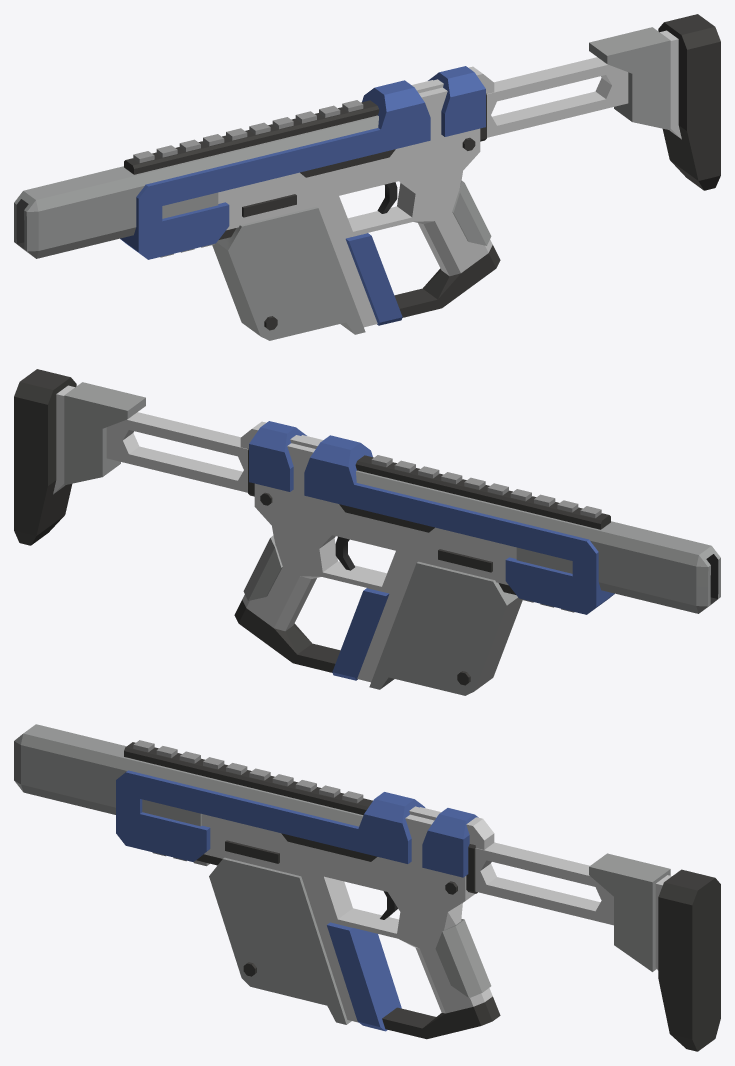
The model's file is Gun04.fbx.
The picture shows the model from 3 angles, top to bottom: view 1: azimuth 30°, elevation 25°; view 2: azimuth 150°, elevation 25°; view 3: azimuth 330°, elevation 25°; orthographic projection.
Visible parts, largest first — view 1: Gun04; view 2: Gun04; view 3: Gun04.
Boxes of the visible parts, box(x1,y1,x2,y2) form: Gun04: box(14, 14, 720, 340); Gun04: box(14, 369, 720, 695); Gun04: box(14, 724, 720, 1051).
Bounding box in the file's own units: 43.14 × 13.72 × 3.13.
Materials: 1 (1 with a texture image).
